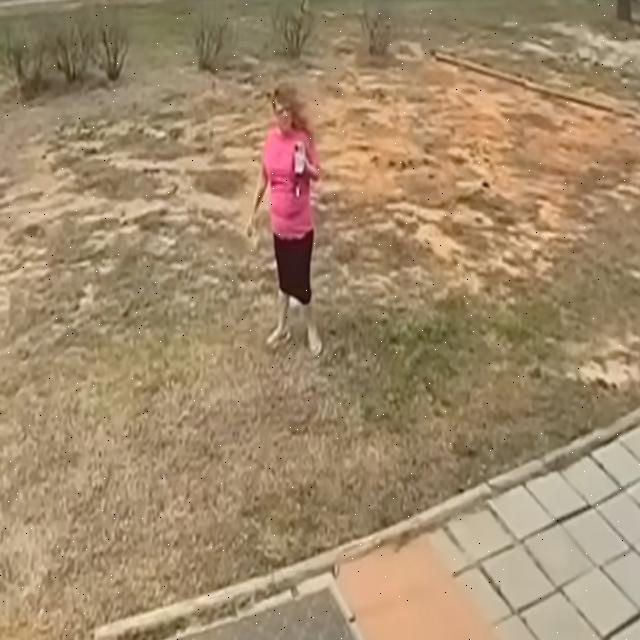standing: (248, 85, 322, 354)
